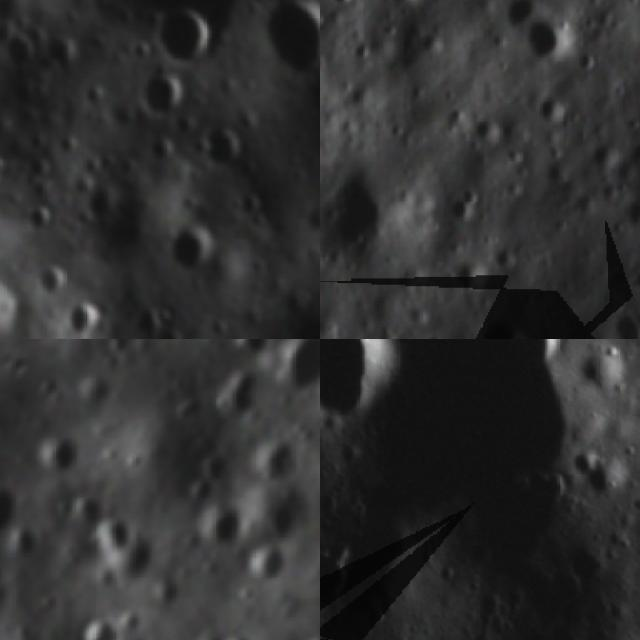crater: (320, 339, 402, 437), (562, 340, 636, 408), (261, 0, 320, 83), (153, 0, 220, 72), (558, 438, 629, 503), (164, 220, 226, 282), (138, 62, 192, 123), (199, 116, 253, 176), (245, 534, 300, 592), (268, 339, 320, 398), (320, 544, 356, 629), (250, 432, 306, 486), (468, 302, 547, 339), (59, 296, 124, 339), (31, 427, 84, 478), (89, 509, 141, 560), (41, 27, 86, 78), (33, 259, 79, 307), (0, 277, 35, 339), (522, 14, 568, 60), (71, 605, 131, 640), (544, 618, 638, 640), (202, 506, 245, 551), (0, 24, 40, 72), (190, 439, 232, 481), (21, 196, 59, 238), (182, 474, 222, 512), (0, 474, 22, 539), (609, 296, 640, 339), (208, 625, 264, 640), (0, 557, 13, 594)
